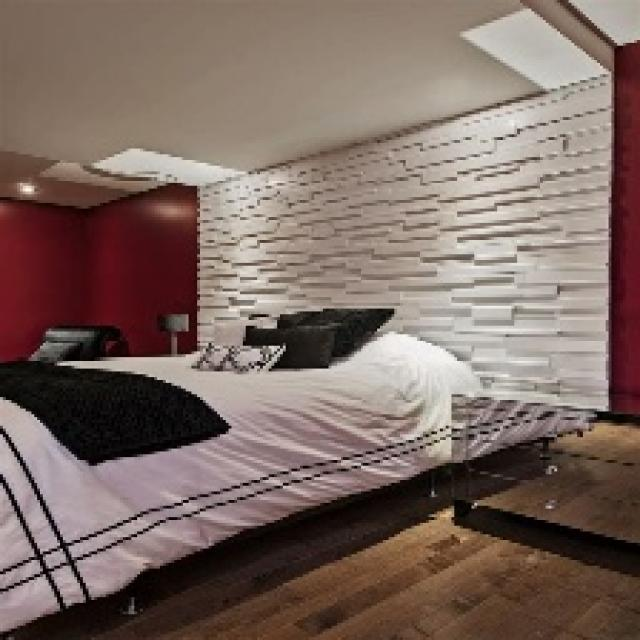Bed: (0, 326, 480, 637)
